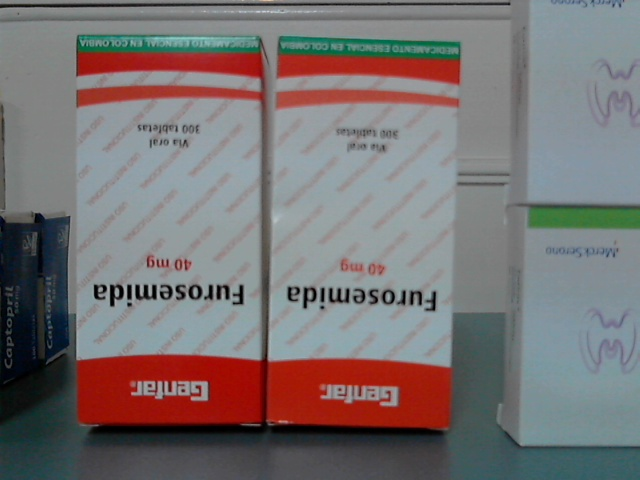Genfar: (271, 36, 458, 429), (73, 34, 260, 424)
